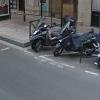Motorcycle: (26, 18, 100, 64)
